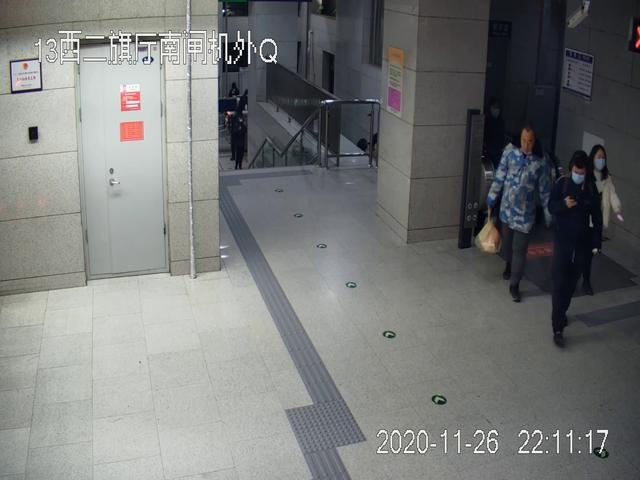person: (476, 126, 551, 303), (548, 150, 603, 347)
